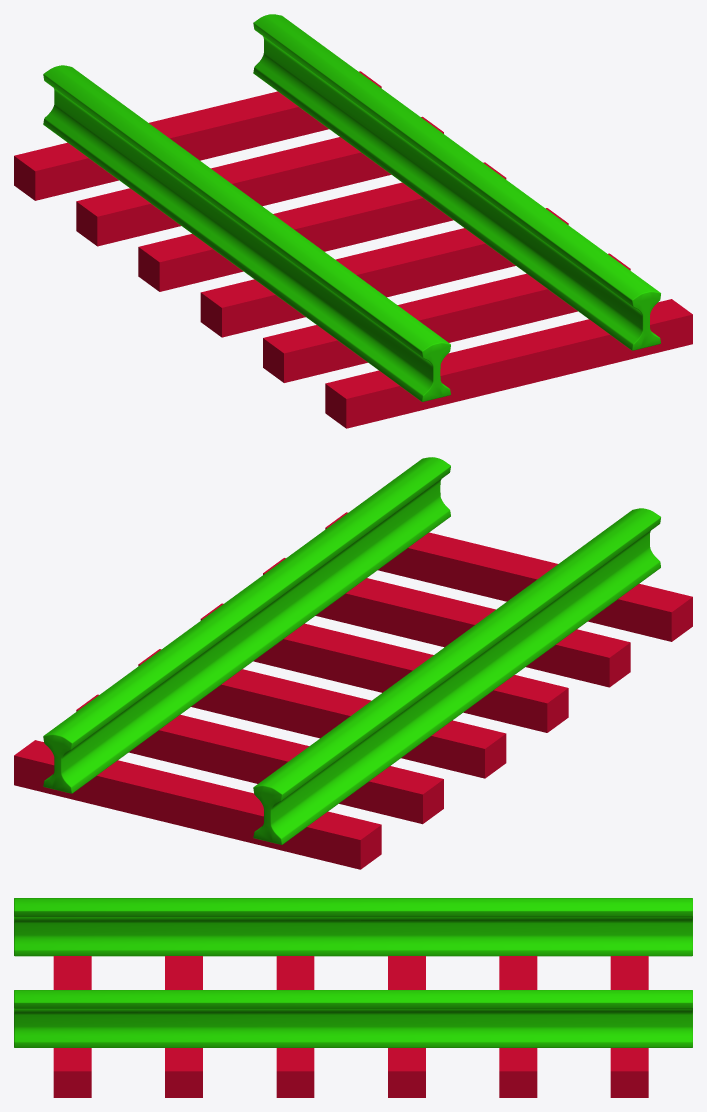
The model's file is rails.fbx.
3 views of the same model, one above another, from view 1: azimuth 30°, elevation 25°; view 2: azimuth 150°, elevation 25°; view 3: azimuth 270°, elevation 25° (orthographic). The views are drawn at different scales.
Parts seen in each view (by area): view 1: Cube.001; view 2: Cube.001; view 3: Cube.001.
Boxes of the visible parts, box(x1,y1,x2,y2) form: Cube.001: box(14, 14, 692, 428); Cube.001: box(14, 457, 692, 869); Cube.001: box(14, 898, 692, 1097).
Bounding box in the file's own units: 717 × 168 × 1359.
